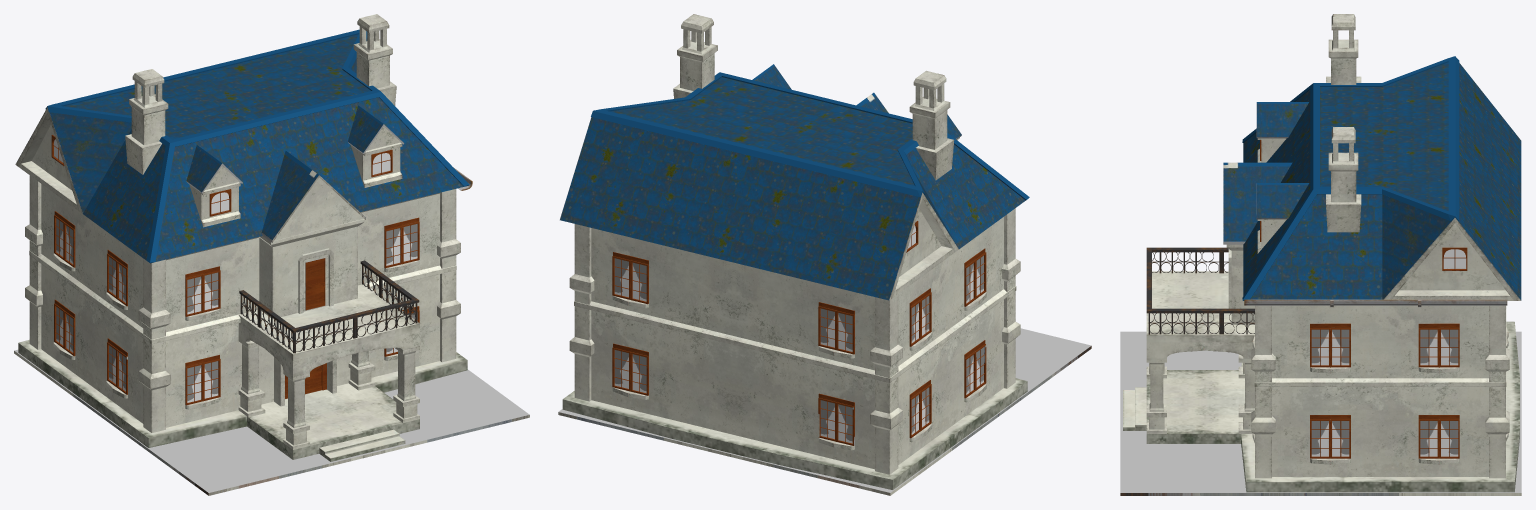
Rendered from mansion.fbx.
3 views of the same model, side by side, from view 1: azimuth 30°, elevation 25°; view 2: azimuth 150°, elevation 25°; view 3: azimuth 270°, elevation 25° (orthographic). The views are drawn at different scales.
Parts seen in each view (by area): view 1: mansion; view 2: mansion; view 3: mansion.
Boxes of the visible parts, x1,y1,x2,y2 form: mansion: (14,14,529,495); mansion: (558,14,1091,495); mansion: (1120,14,1521,495).
Bounding box in the file's own units: 80.3 × 77.87 × 83.2.
